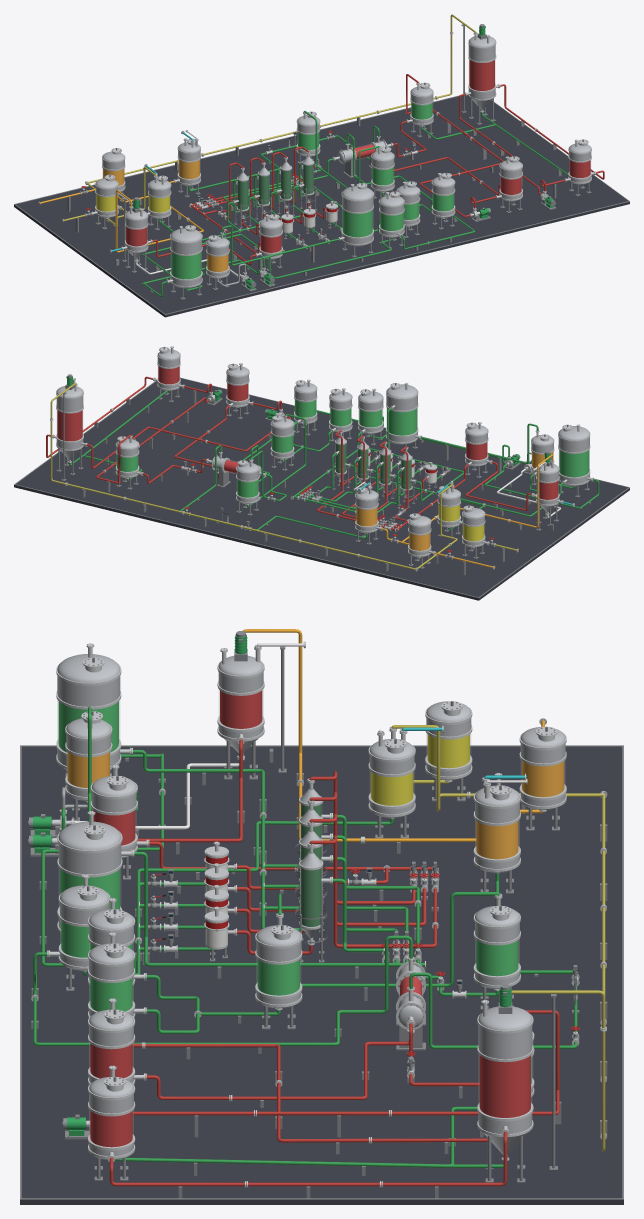
The model's file is sxema_draco.glb.
The picture shows the model from 3 angles, top to bottom: view 1: azimuth 30°, elevation 25°; view 2: azimuth 150°, elevation 25°; view 3: azimuth 270°, elevation 25°; orthographic projection. The views are drawn at different scales.
Visible parts, largest first — view 1: Platform, E16, E3, E5, Pipe_Supports, E7, E4, E14, E9, E10_2, E15, E6 (+21 smaller); view 2: Platform, E16, E5, E3, Pipe_Supports, Pipe_Acid_Main_E16, E7, E4, E14, E9, E8, E11 (+25 smaller); view 3: Platform, E16, E5, E7, Pipe_Supports, E3, E14, E11, E9, E2, E13, E12 (+42 smaller).
Part boxes in pixels (x1,y1,x2,y2): Platform: [14, 95, 629, 317]; E16: [465, 24, 499, 124]; E3: [339, 183, 373, 257]; E5: [168, 225, 202, 299]; Pipe_Supports: [67, 24, 561, 292]; E7: [122, 197, 152, 272]; E4: [379, 191, 404, 249]; E14: [174, 138, 200, 197]; E9: [565, 139, 595, 196]; E10_2: [431, 172, 455, 229]; E15: [497, 156, 522, 212]; E6: [206, 232, 229, 289]; Platform: [14, 377, 629, 600]; E16: [52, 374, 86, 475]; E5: [558, 424, 592, 497]; E3: [386, 383, 420, 451]; Pipe_Supports: [61, 390, 590, 575]; Pipe_Acid_Main_E16: [50, 382, 417, 570]; E7: [532, 451, 562, 526]; E4: [358, 388, 383, 445]; E14: [355, 483, 381, 544]; E9: [153, 346, 183, 402]; E8: [465, 422, 491, 477]; E11: [270, 415, 294, 470]; Platform: [20, 745, 623, 1204]; E16: [477, 984, 533, 1182]; E5: [56, 643, 131, 793]; E7: [217, 631, 264, 779]; Pipe_Supports: [31, 646, 607, 1198]; E3: [57, 811, 132, 932]; E14: [473, 779, 520, 893]; E11: [255, 916, 302, 1029]; E9: [88, 1065, 135, 1180]; E2: [368, 729, 415, 838]; E13: [519, 726, 566, 830]; E12: [473, 896, 520, 1009].
Size of what is drawn, in the model's own units: 23.88 by 4.74 by 13.44.
